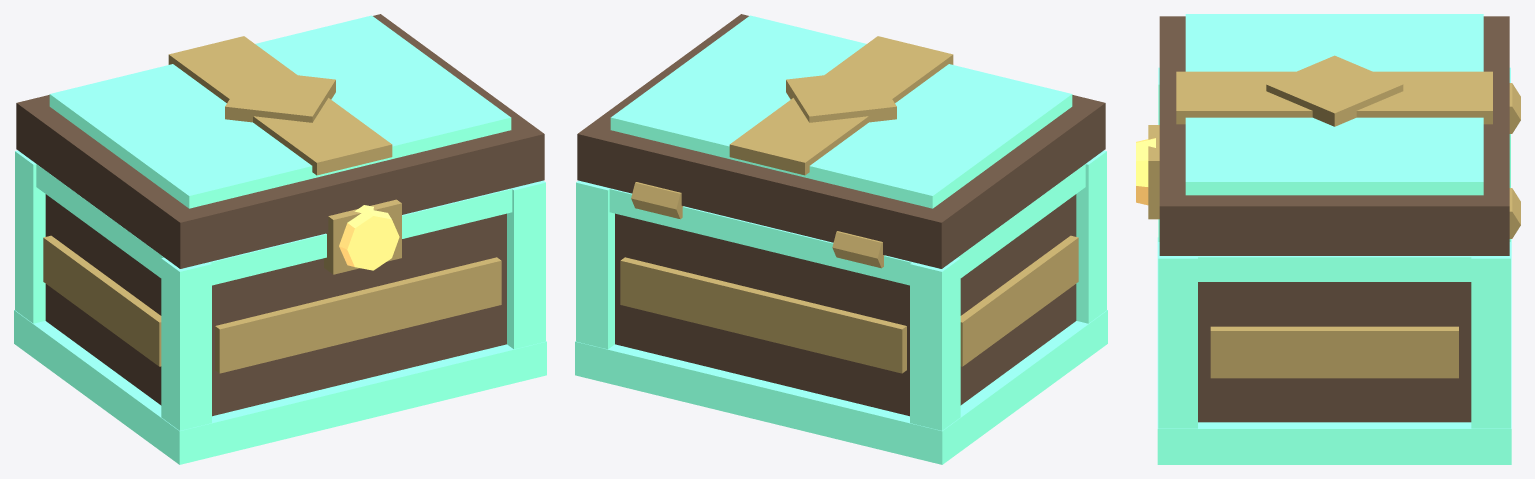
3 renders of one model, left to right at view 1: azimuth 30°, elevation 25°; view 2: azimuth 150°, elevation 25°; view 3: azimuth 270°, elevation 25°, orthographic. The views are drawn at different scales.
Visible parts, largest first — view 1: BoxBody, LidPivot, SealPart; view 2: BoxBody, LidPivot; view 3: LidPivot, BoxBody, SealPart.
Boxes of the visible parts, x1,y1,x2,y2 form: BoxBody: (14, 150, 546, 464); LidPivot: (16, 14, 544, 268); SealPart: (324, 199, 401, 274); BoxBody: (575, 150, 1107, 464); LidPivot: (577, 14, 1105, 268); LidPivot: (1159, 14, 1509, 255); BoxBody: (1157, 67, 1520, 464); SealPart: (1136, 125, 1159, 219).
Size of the model in its own units: 0.365 by 0.253 by 0.31.
